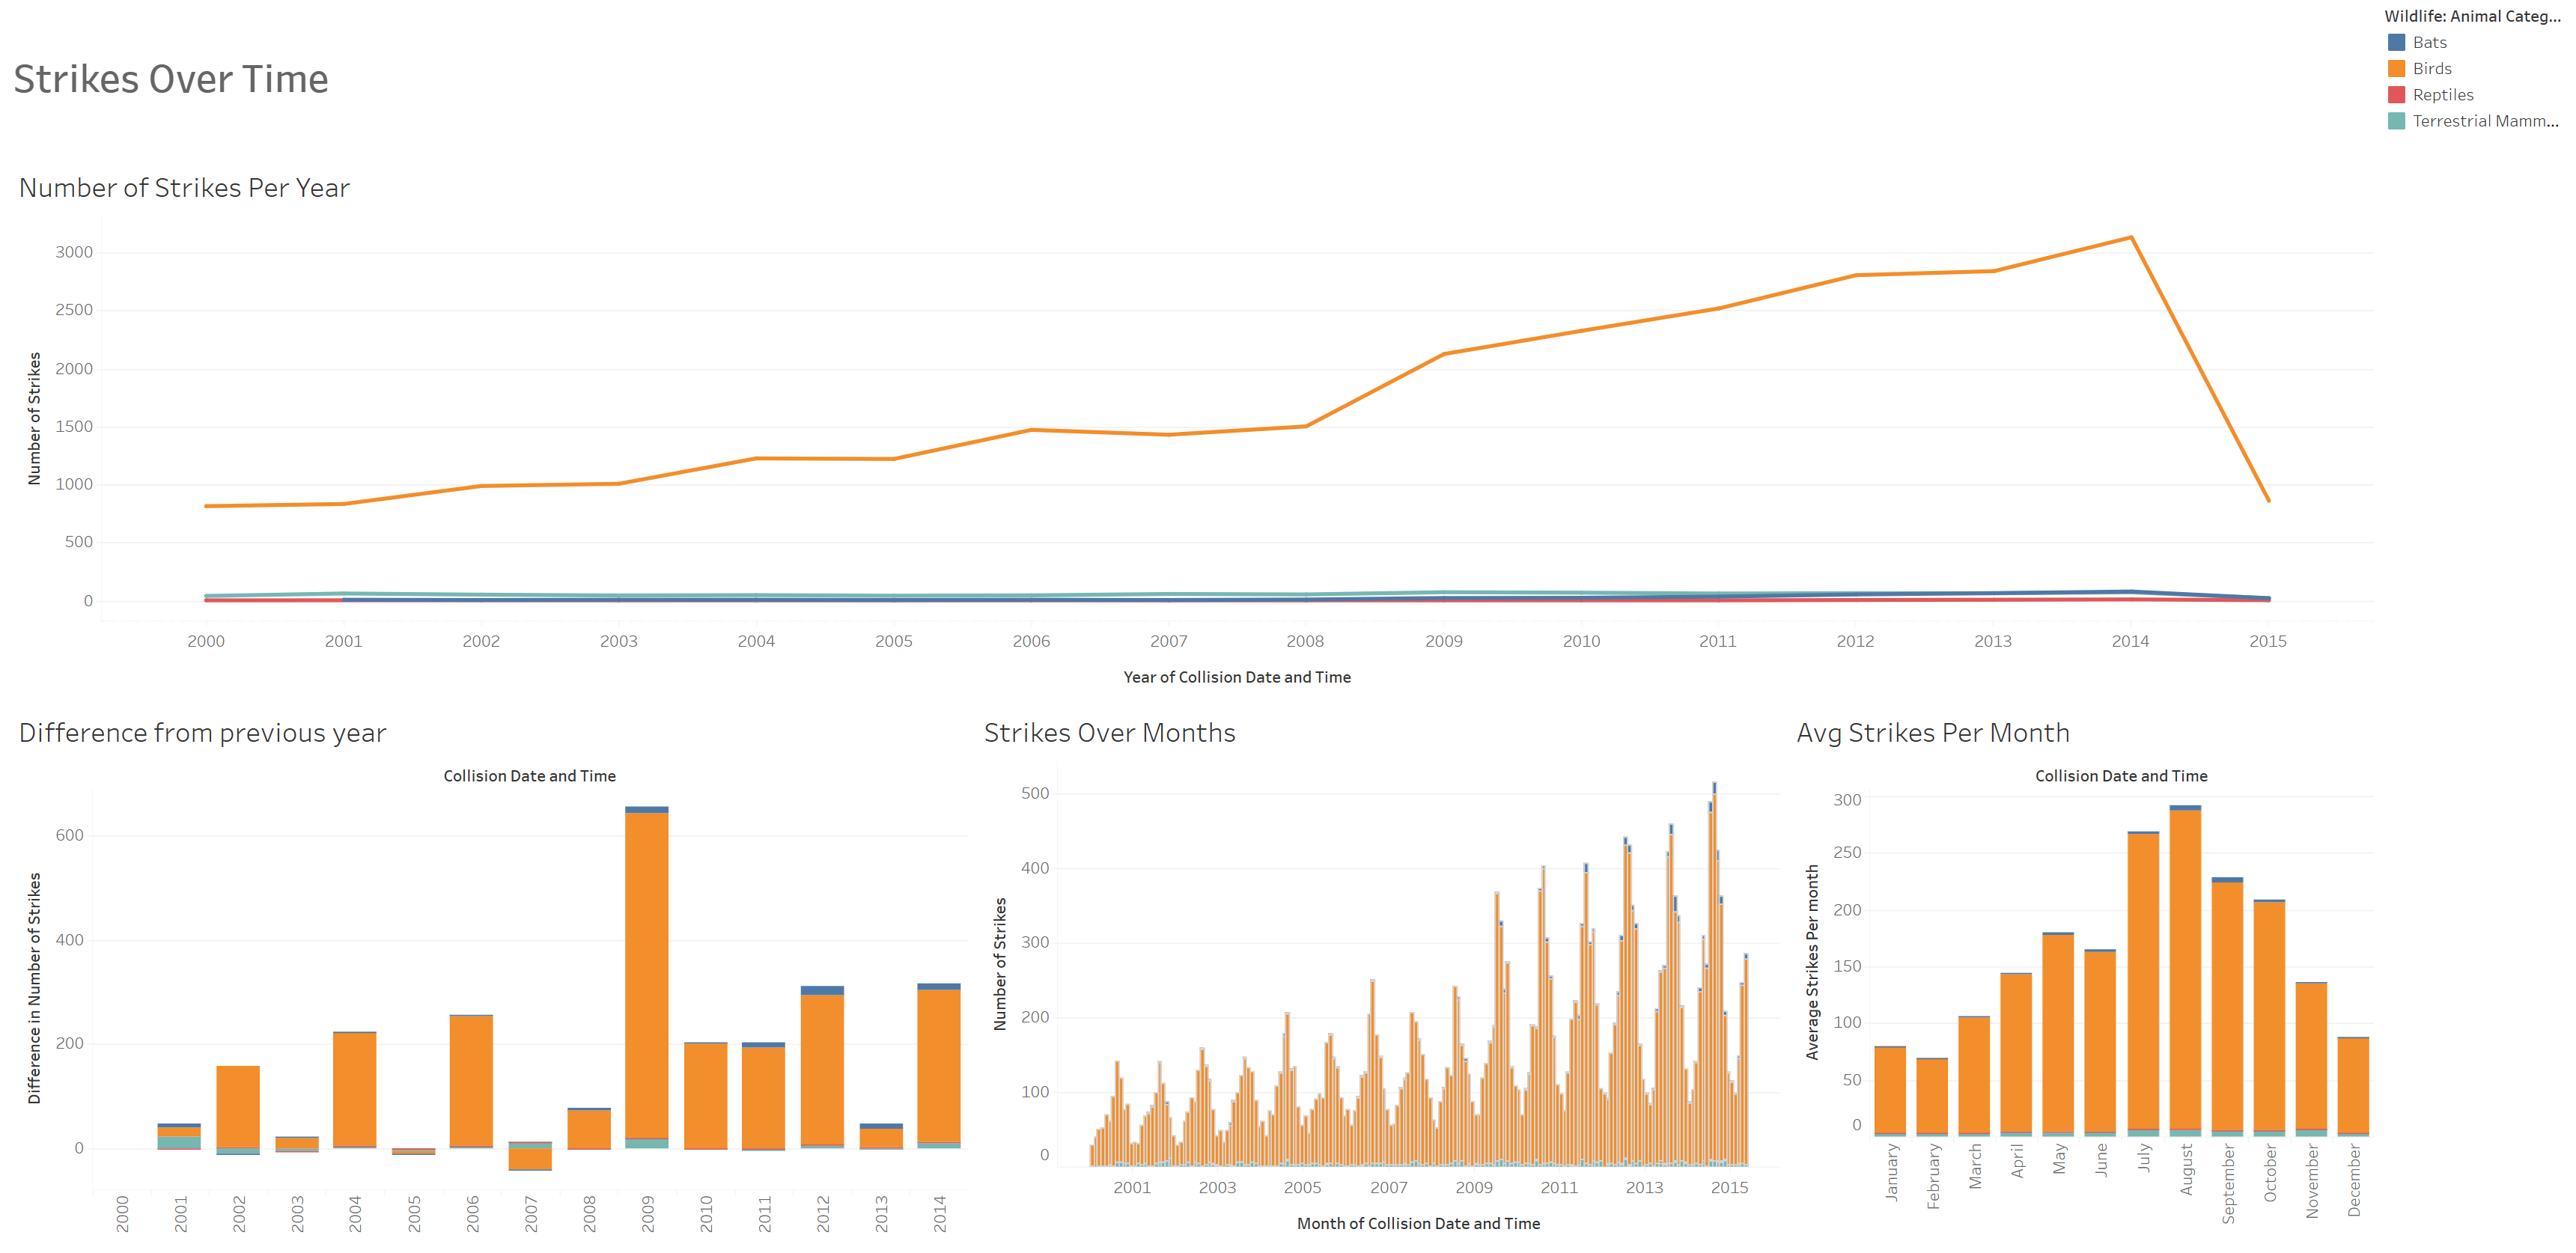

The dashboard page shown, as its layout file describes it:
{"tool":"tableau","page":{"name":"Strikes over Time","canvas":[1000,1000],"units":"permille","ordinal":2},"visuals":[{"type":"text","box":[4.1,8.3,917.8,122.9]},{"type":"legend","title":"Strikes over time","param":"[federated.09g25mg09rkg6w10kiey40u899o3].[none:Wildlife: Animal Category:nk]","box":[921.9,8.3,74,110.5]},{"type":"worksheet","title":"Strikes over time","mark":"Automatic","rows":["Number of Strikes"],"cols":["Collision Date and Time"],"box":[4.1,131.1,917.8,430.3]},{"type":"worksheet","title":"Difference from previous year","mark":"Bar","cols":["Collision Date and Time"],"box":[4.1,561.4,373.5,430.3]},{"type":"worksheet","title":"Strikes Over Months","mark":"Bar","rows":["Number of Strikes"],"cols":["Collision Date and Time"],"box":[377.6,561.4,314.8,430.3]},{"type":"worksheet","title":"Avg Strikes Per Month","mark":"Bar","rows":["Calculation_979603298547507226"],"cols":["Collision Date and Time"],"box":[692.4,561.4,229.5,430.3]}]}

Visuals, with their boxes on the dashboard's canvas, which has no fixed pixel size, in thousandths of its width and height (x1, y1, x2, y2). These are canvas units, not pixel positions in the 2576x1253 screenshot, which may show the page scaled, cropped or inside an application window:
text: (x1=4, y1=8, x2=922, y2=131)
"Strikes over time" legend: (x1=922, y1=8, x2=996, y2=119)
"Strikes over time" worksheet: (x1=4, y1=131, x2=922, y2=561)
"Difference from previous year" worksheet (Bar marks): (x1=4, y1=561, x2=378, y2=992)
"Strikes Over Months" worksheet (Bar marks): (x1=378, y1=561, x2=692, y2=992)
"Avg Strikes Per Month" worksheet (Bar marks): (x1=692, y1=561, x2=922, y2=992)
